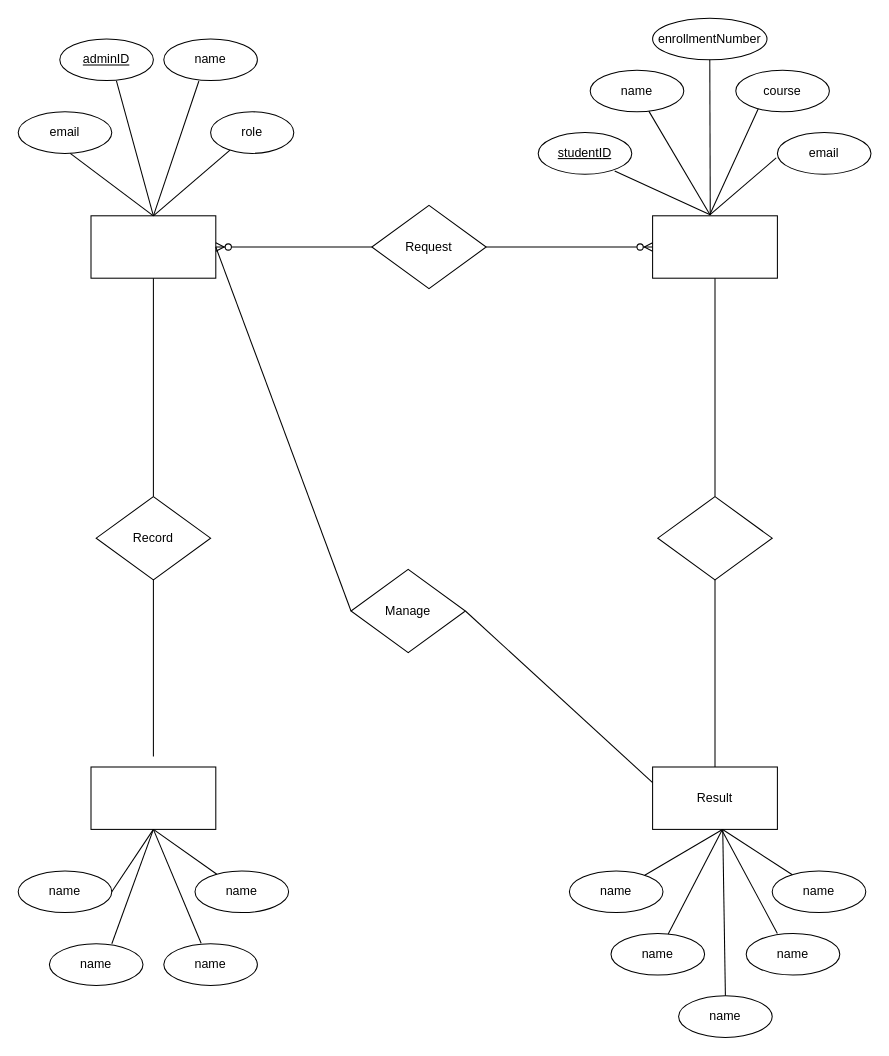
The diagram is 889 pixels wide and 1056 high, and some of its shapes have lost their labels. Each missing label, with the centre of its shape:
Admin /HR: (153,246)
Attendance: (153,797)
Show: (714,538)
Student: (714,246)
